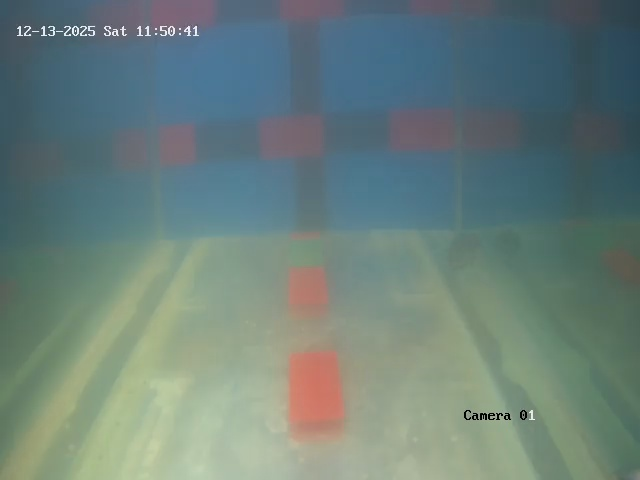fish: (427, 229, 492, 284)
